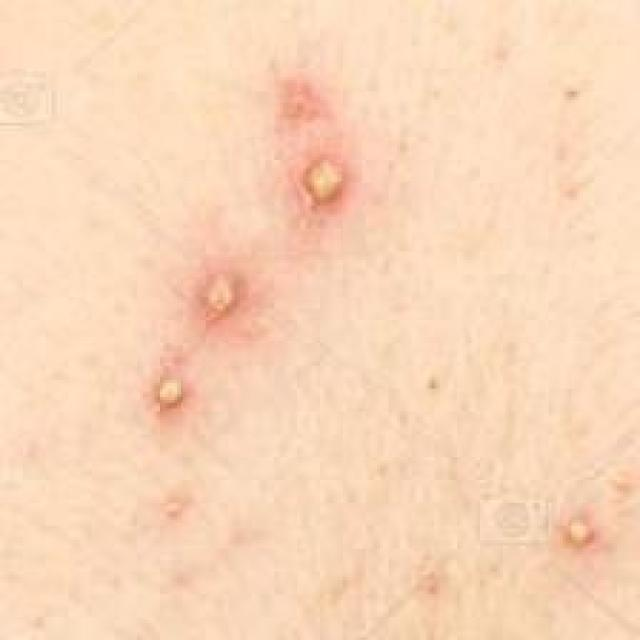others: (92, 77, 613, 640)
